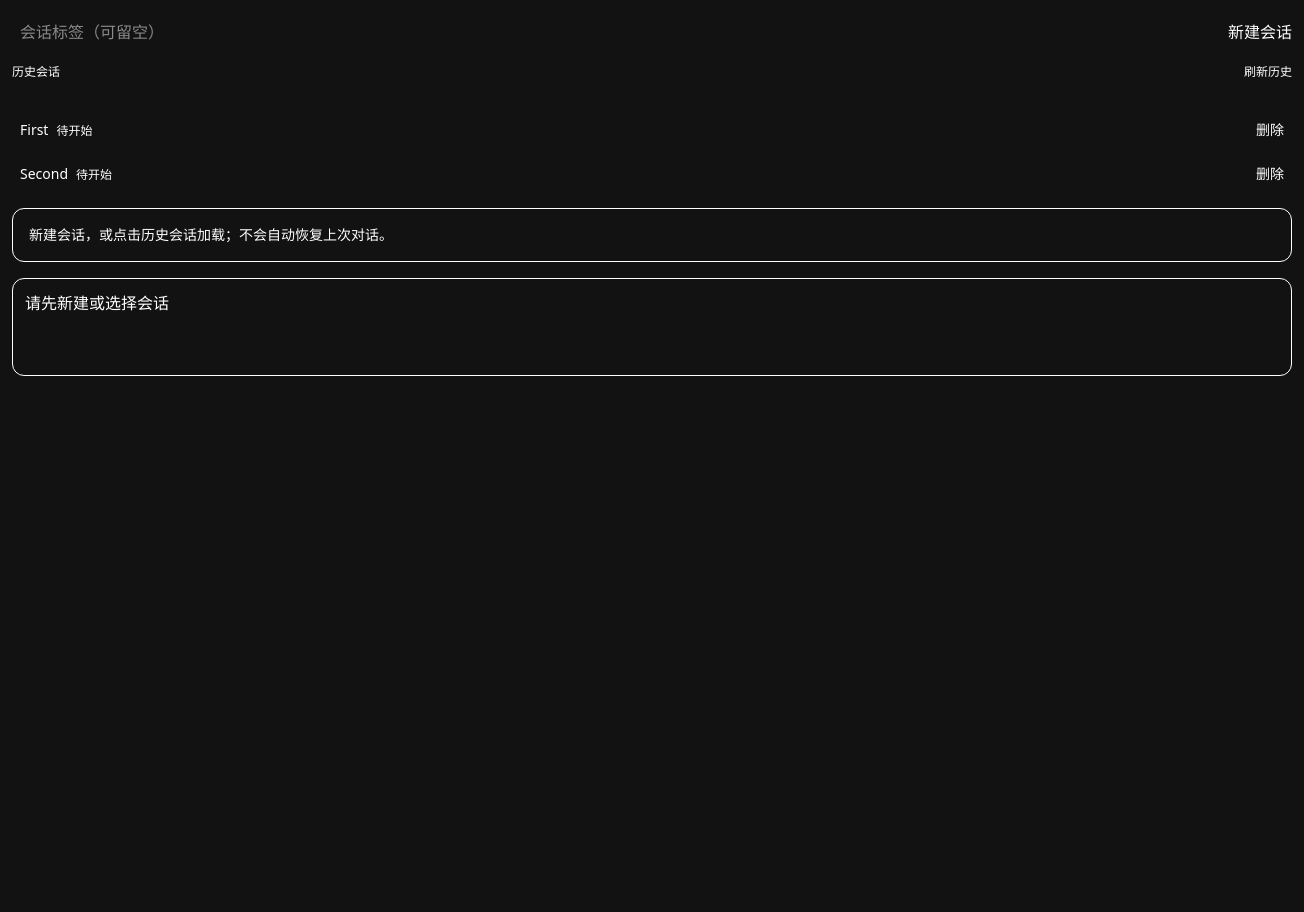
Test: ignores a late detail response when the user selects another Session
The width and height of the screenshot is (1304, 912).
Click the button "First待开始" at (74, 130), box [20,120,1248,140]
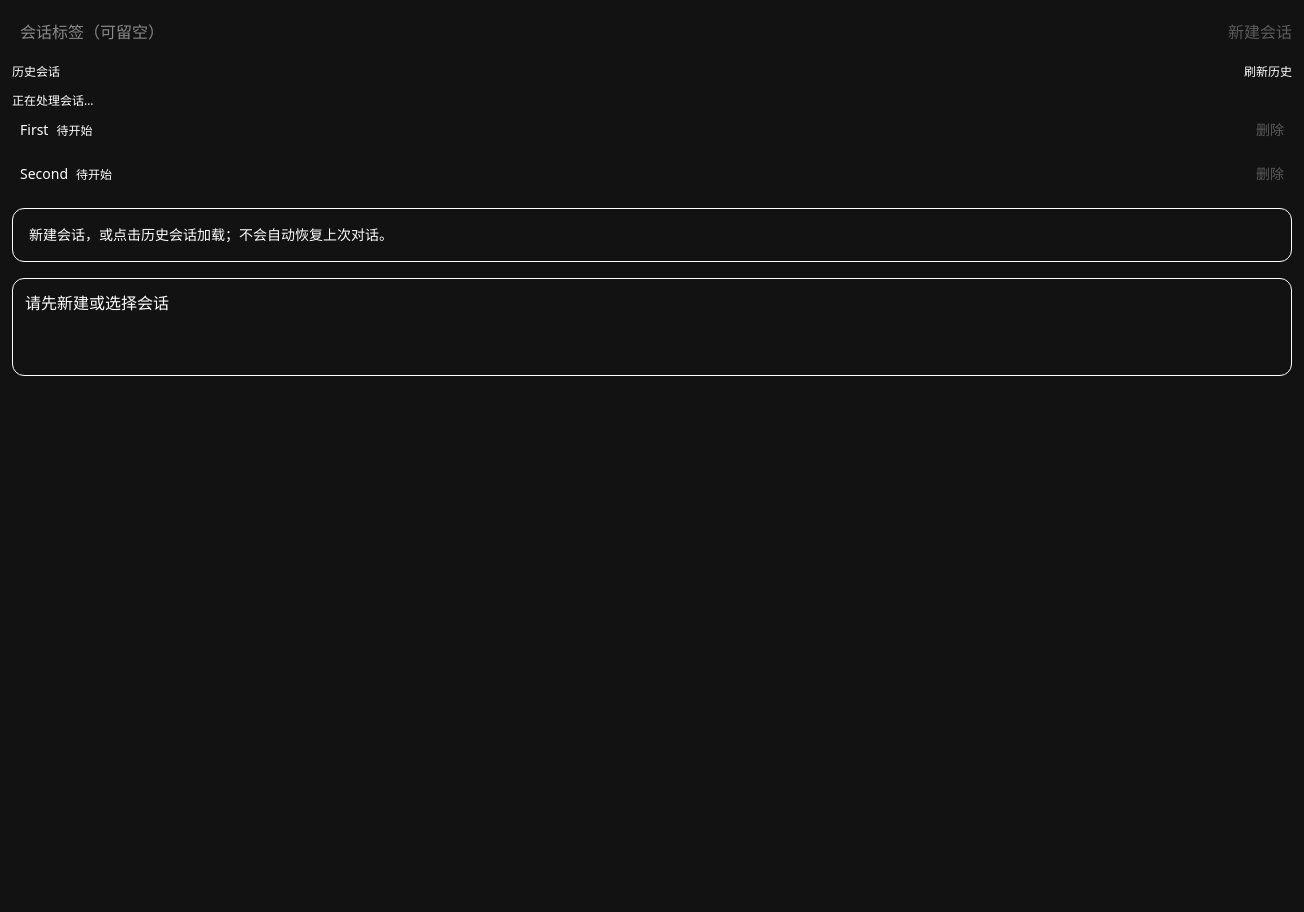
Click the button "Second待开始" at (44, 174), box [20,164,1248,184]
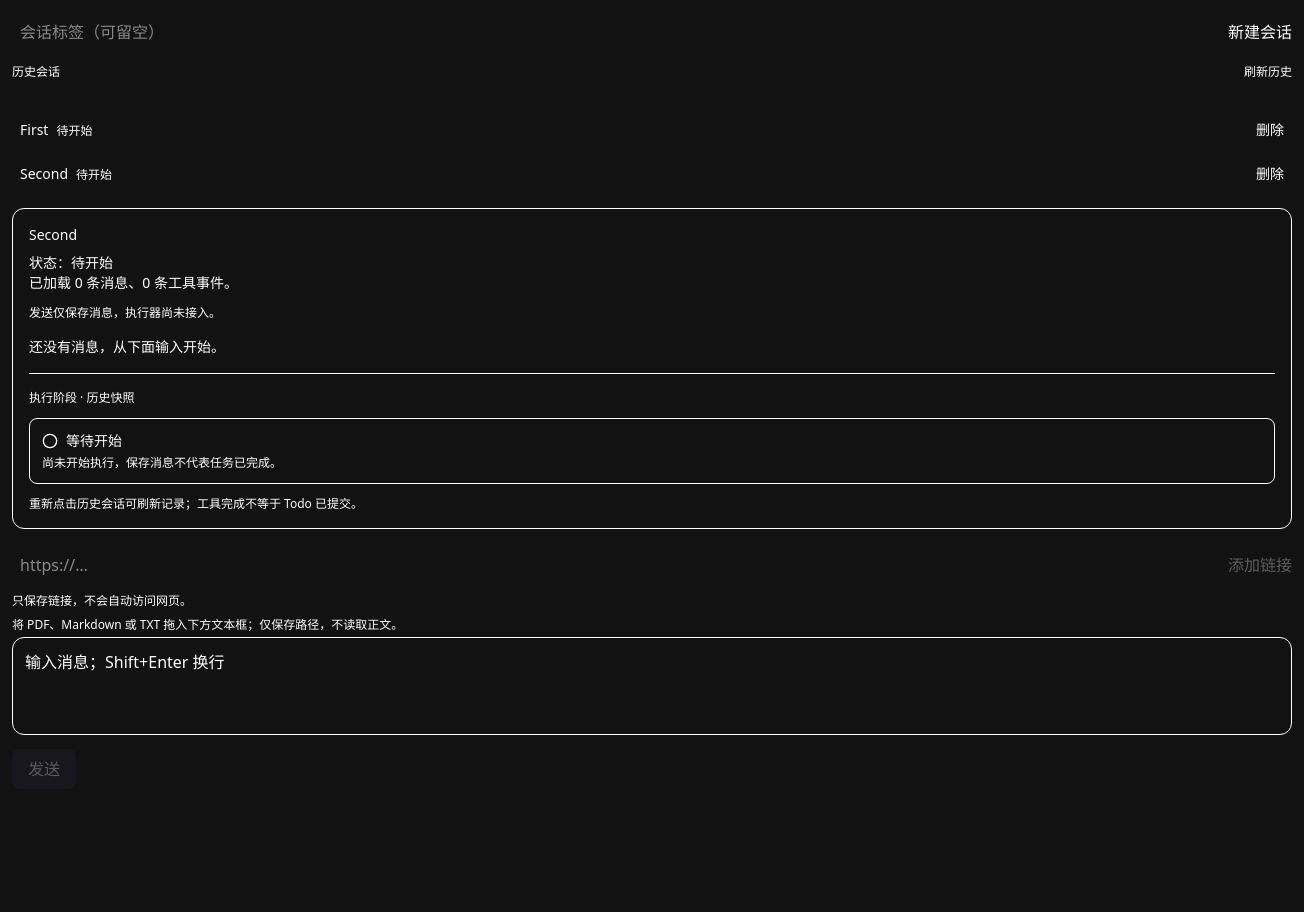
Result: the heading "Second" is shown at [29,225,77,244]
